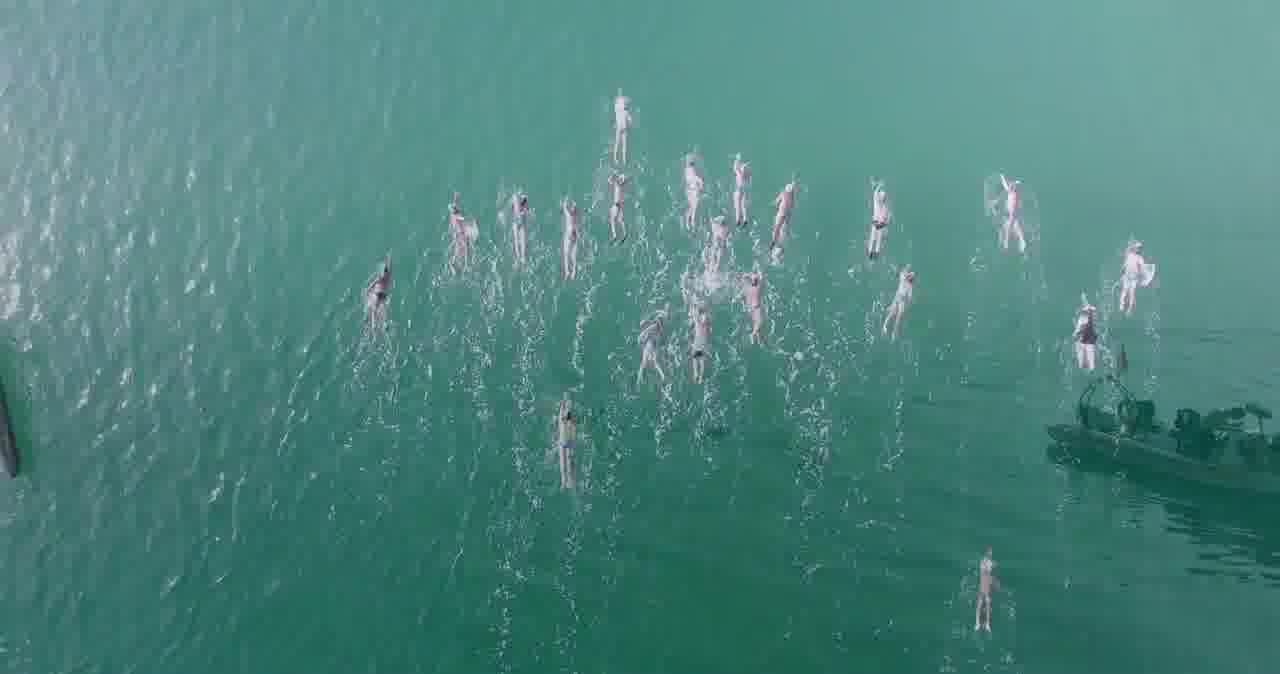swimmer: (553, 400, 585, 494), (503, 186, 538, 267), (632, 306, 664, 392), (363, 250, 397, 330), (1073, 295, 1104, 377), (735, 272, 775, 335), (976, 548, 1003, 636), (1126, 228, 1153, 314), (451, 193, 481, 268), (605, 85, 632, 166), (679, 156, 708, 228), (602, 172, 628, 250), (732, 147, 754, 238), (998, 176, 1021, 251), (890, 262, 910, 343), (867, 184, 888, 260), (558, 198, 576, 276), (775, 170, 791, 251), (697, 304, 709, 388)
